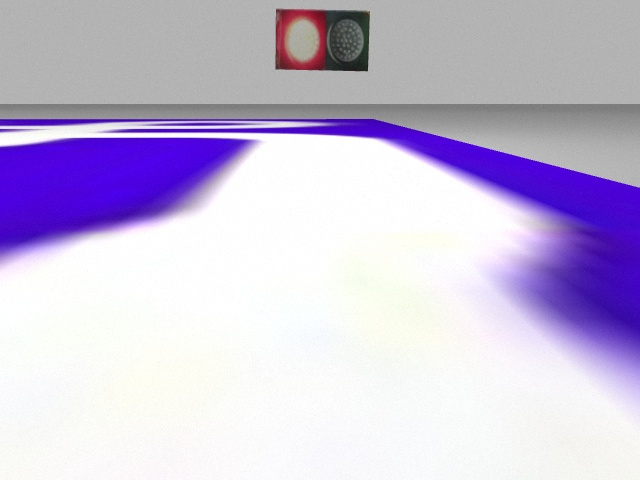red: (275, 7, 324, 72)
